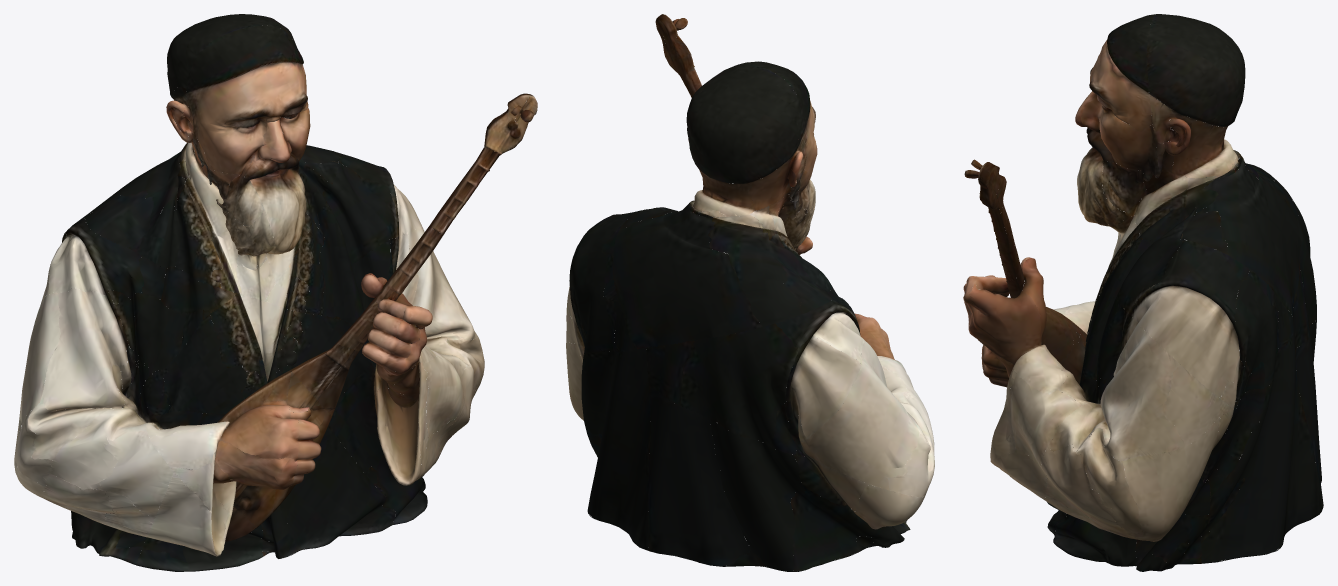
File: bukhar-zhyrau.glb
3 renders of one model, left to right at view 1: azimuth 30°, elevation 25°; view 2: azimuth 150°, elevation 25°; view 3: azimuth 270°, elevation 25°, orthographic. The views are drawn at different scales.
Visible parts, largest first — view 1: tripo_node_2dc3de30-7f28-414e-8e79-083f63fc980c; view 2: tripo_node_2dc3de30-7f28-414e-8e79-083f63fc980c; view 3: tripo_node_2dc3de30-7f28-414e-8e79-083f63fc980c.
Boxes of the visible parts, x1=… form: tripo_node_2dc3de30-7f28-414e-8e79-083f63fc980c: x1=14, y1=14, x2=537, y2=571; tripo_node_2dc3de30-7f28-414e-8e79-083f63fc980c: x1=566, y1=14, x2=934, y2=571; tripo_node_2dc3de30-7f28-414e-8e79-083f63fc980c: x1=963, y1=14, x2=1323, y2=571.
Bounding box in the file's own units: 0.898 × 0.9795 × 0.6814.
Materials: 1 (1 with a texture image).
